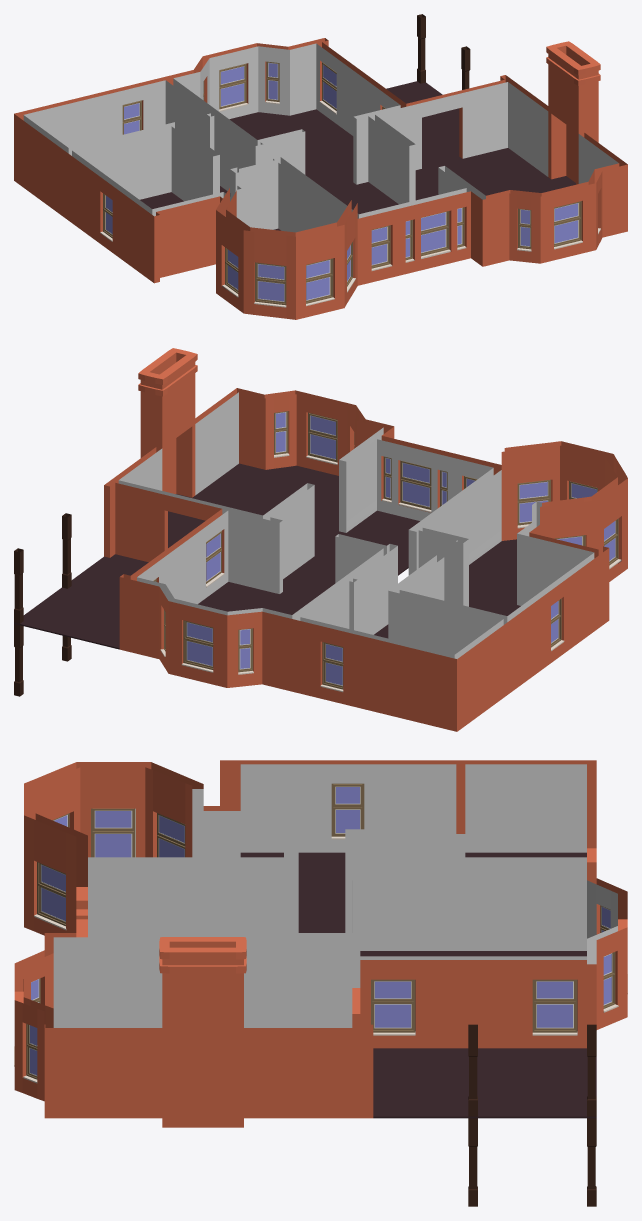
File: HouseWallsFL2.fbx
3 renders of one model, top to bottom at view 1: azimuth 30°, elevation 25°; view 2: azimuth 150°, elevation 25°; view 3: azimuth 270°, elevation 25°, orthographic. The views are drawn at different scales.
Visible parts, largest first — view 1: WallsF1.001, FloorF2, WindowsFL2; view 2: WallsF1.001, FloorF2, WindowsFL2; view 3: WallsF1.001, FloorF2, WindowsFL2.
Boxes of the visible parts, box(x1,y1,x2,y2) form: WallsF1.001: box(14, 38, 627, 318); FloorF2: box(14, 14, 627, 319); WindowsFL2: box(100, 61, 600, 307); WallsF1.001: box(104, 348, 627, 730); FloorF2: box(14, 463, 627, 731); WindowsFL2: box(153, 411, 621, 692); WallsF1.001: box(14, 760, 627, 1125); FloorF2: box(14, 852, 627, 1206); WindowsFL2: box(14, 783, 627, 1083).
Bounding box in the file's own units: 1824 × 809 × 1698.
